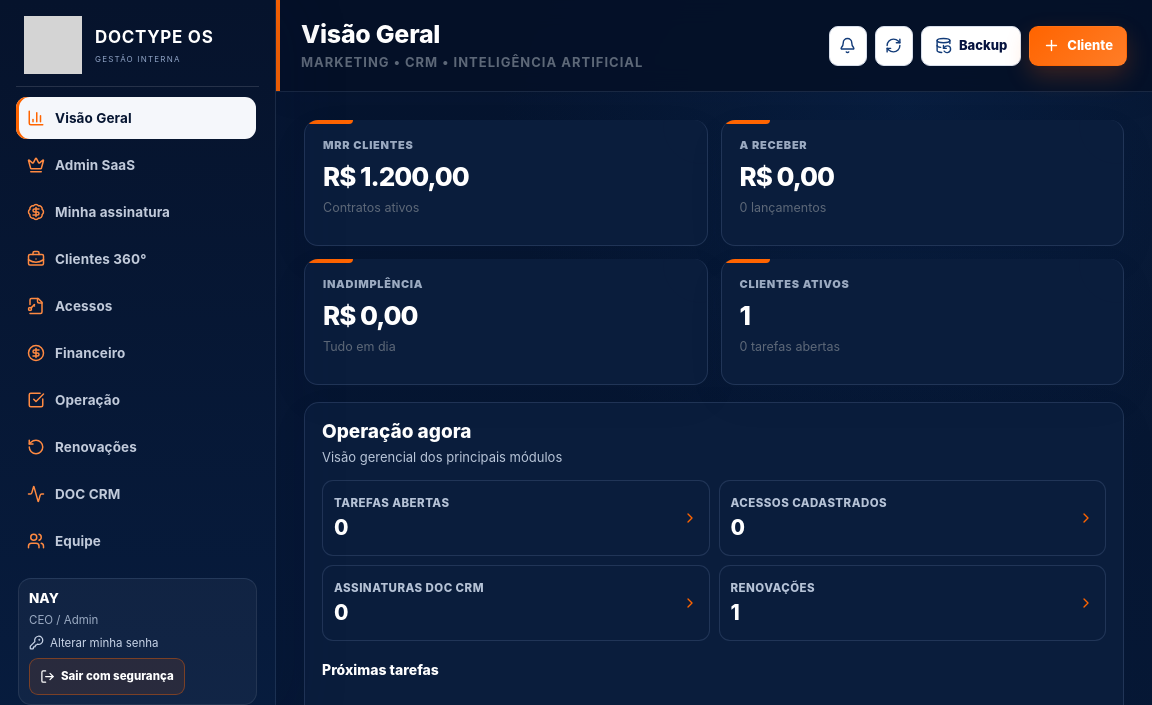
it: jornadas visíveis do DOCTYPE OS › exibe o Admin SaaS somente para o administrador mestre
This screenshot has width=1152, height=705.
Click the button "Admin SaaS" at (136, 165), box [16,144,256,186]
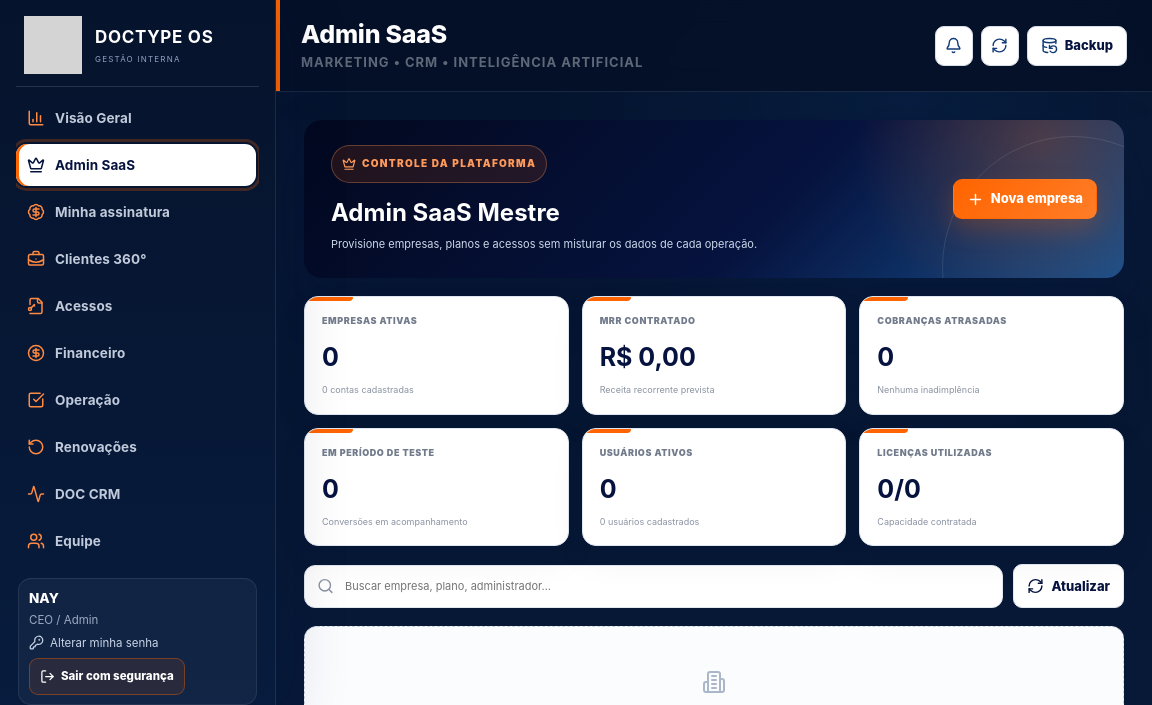
Expected: the heading "Admin SaaS Mestre" is shown, [331,198,560,227]
